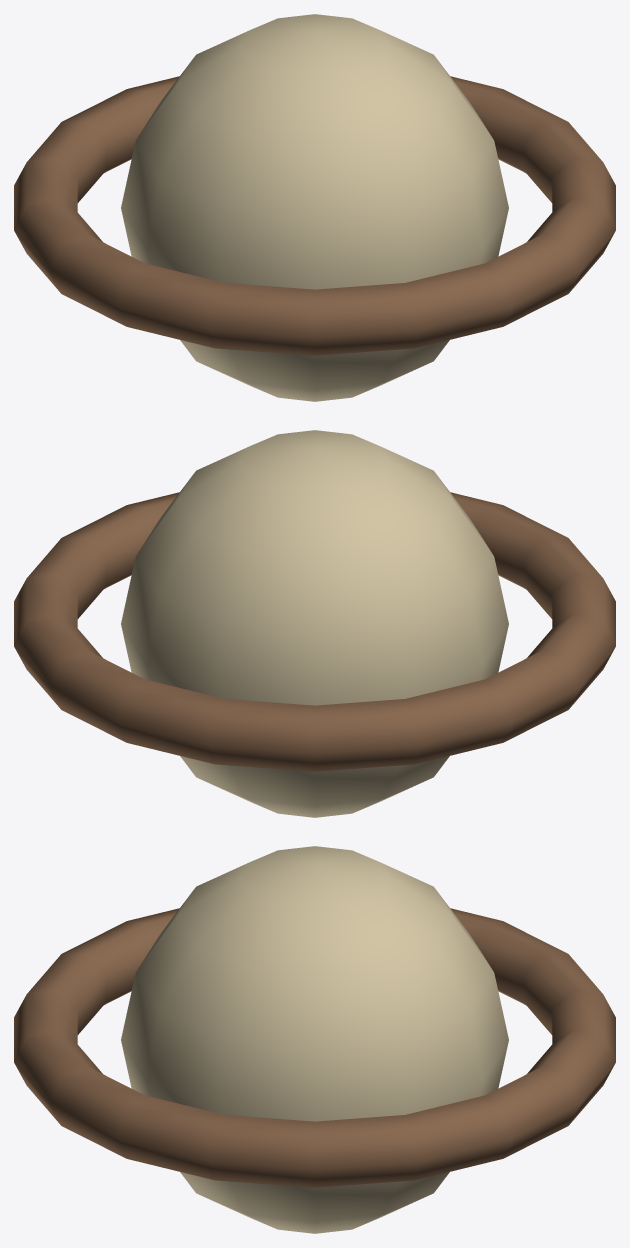
File: skill.glb
3 views of the same model, one above another, from view 1: azimuth 30°, elevation 25°; view 2: azimuth 150°, elevation 25°; view 3: azimuth 270°, elevation 25° (orthographic).
Visible parts, largest first — view 1: skill_core, skill_ring; view 2: skill_core, skill_ring; view 3: skill_core, skill_ring.
Boxes of the visible parts, box(x1,y1,x2,y2) form: skill_core: box(121, 14, 508, 401); skill_ring: box(14, 76, 615, 355); skill_core: box(121, 430, 508, 817); skill_ring: box(14, 492, 615, 771); skill_core: box(121, 846, 508, 1233); skill_ring: box(14, 908, 615, 1187).
Size of the model in its own units: 0.63 by 0.4 by 0.6204.
